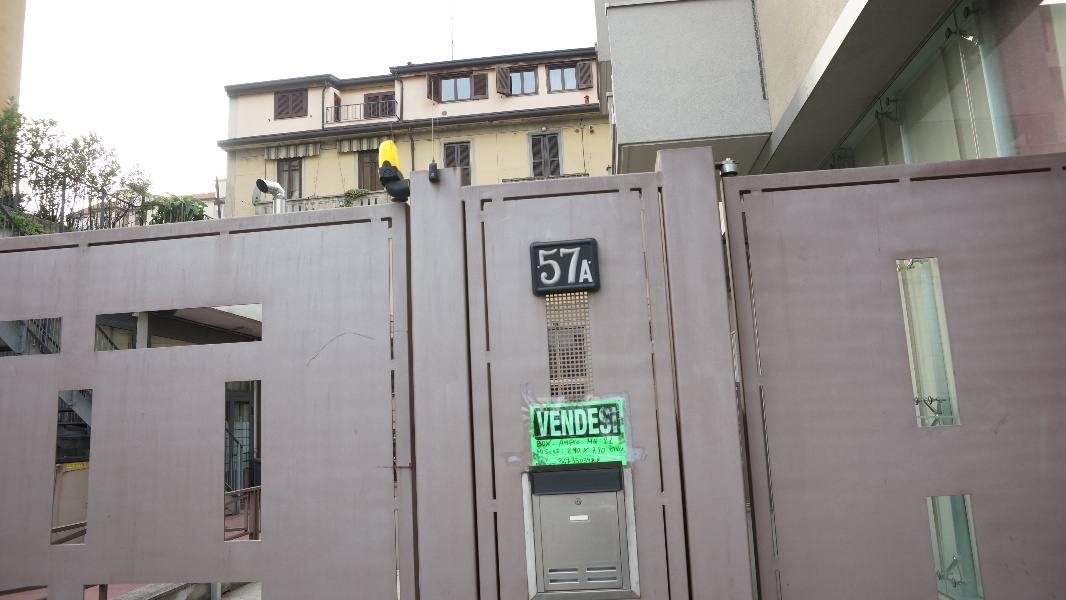text: (545, 247, 560, 288), (561, 247, 576, 288), (577, 247, 592, 288), (545, 407, 560, 438), (561, 407, 576, 438), (577, 407, 592, 438), (593, 407, 608, 438), (609, 407, 619, 438), (538, 247, 544, 288), (537, 407, 544, 438), (562, 439, 576, 448), (561, 457, 576, 465), (577, 457, 592, 465), (545, 449, 560, 456), (593, 447, 606, 455), (545, 439, 555, 449), (593, 247, 595, 288), (536, 439, 544, 449), (610, 447, 624, 452), (593, 457, 601, 465), (545, 462, 557, 467), (68, 463, 80, 468), (568, 448, 576, 455), (537, 449, 544, 456), (562, 450, 576, 453), (593, 438, 598, 446), (609, 437, 614, 445), (584, 448, 592, 453), (536, 462, 544, 467), (588, 438, 592, 446), (600, 439, 608, 443), (604, 437, 608, 445), (577, 448, 581, 455), (577, 439, 580, 448), (81, 463, 86, 468), (559, 457, 560, 465)
